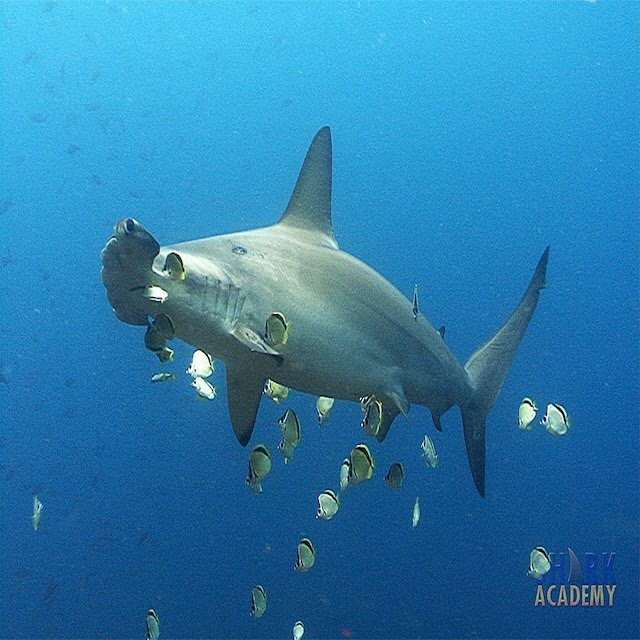hammerhead: (83, 116, 565, 507)
